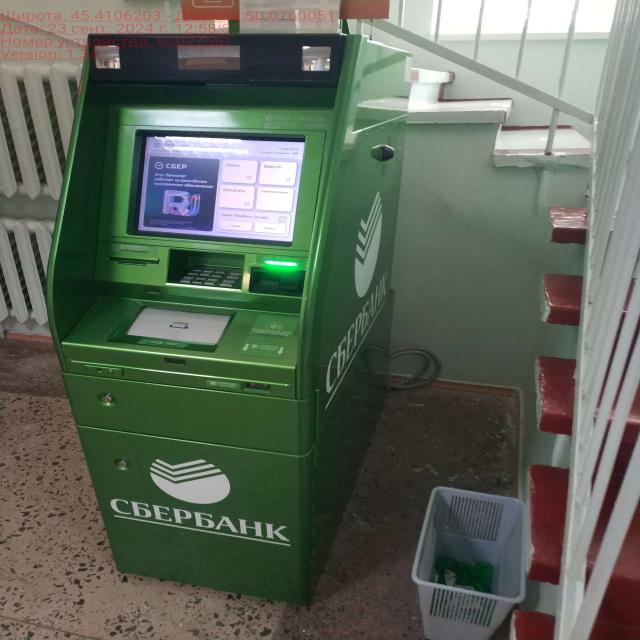bank: (43, 24, 402, 608)
